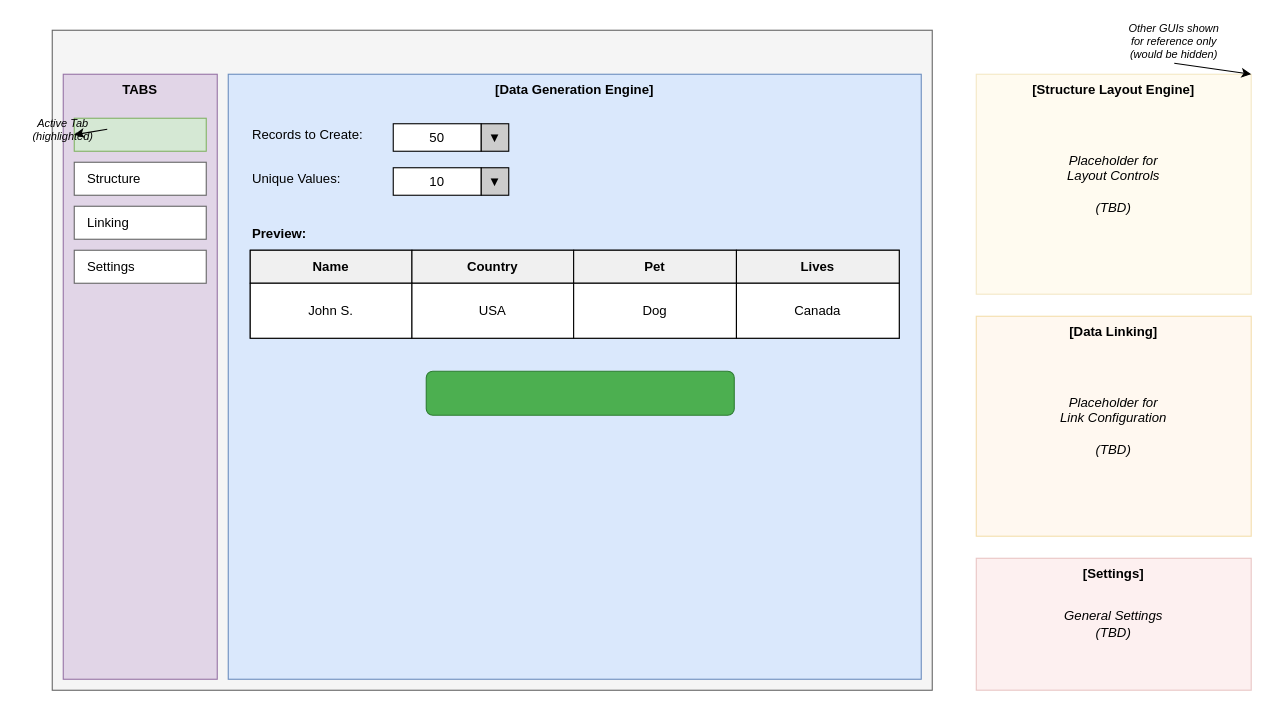
The diagram is 1279 pixels wide and 710 high, and some of its shapes have lost their labels. The shapes that lost their labels are listed below. From the top down, each one's centre as x and y in pixels, then its label:
At point 139,134: "▶ Data Gen".
At point 579,392: "[Generate Data]".
